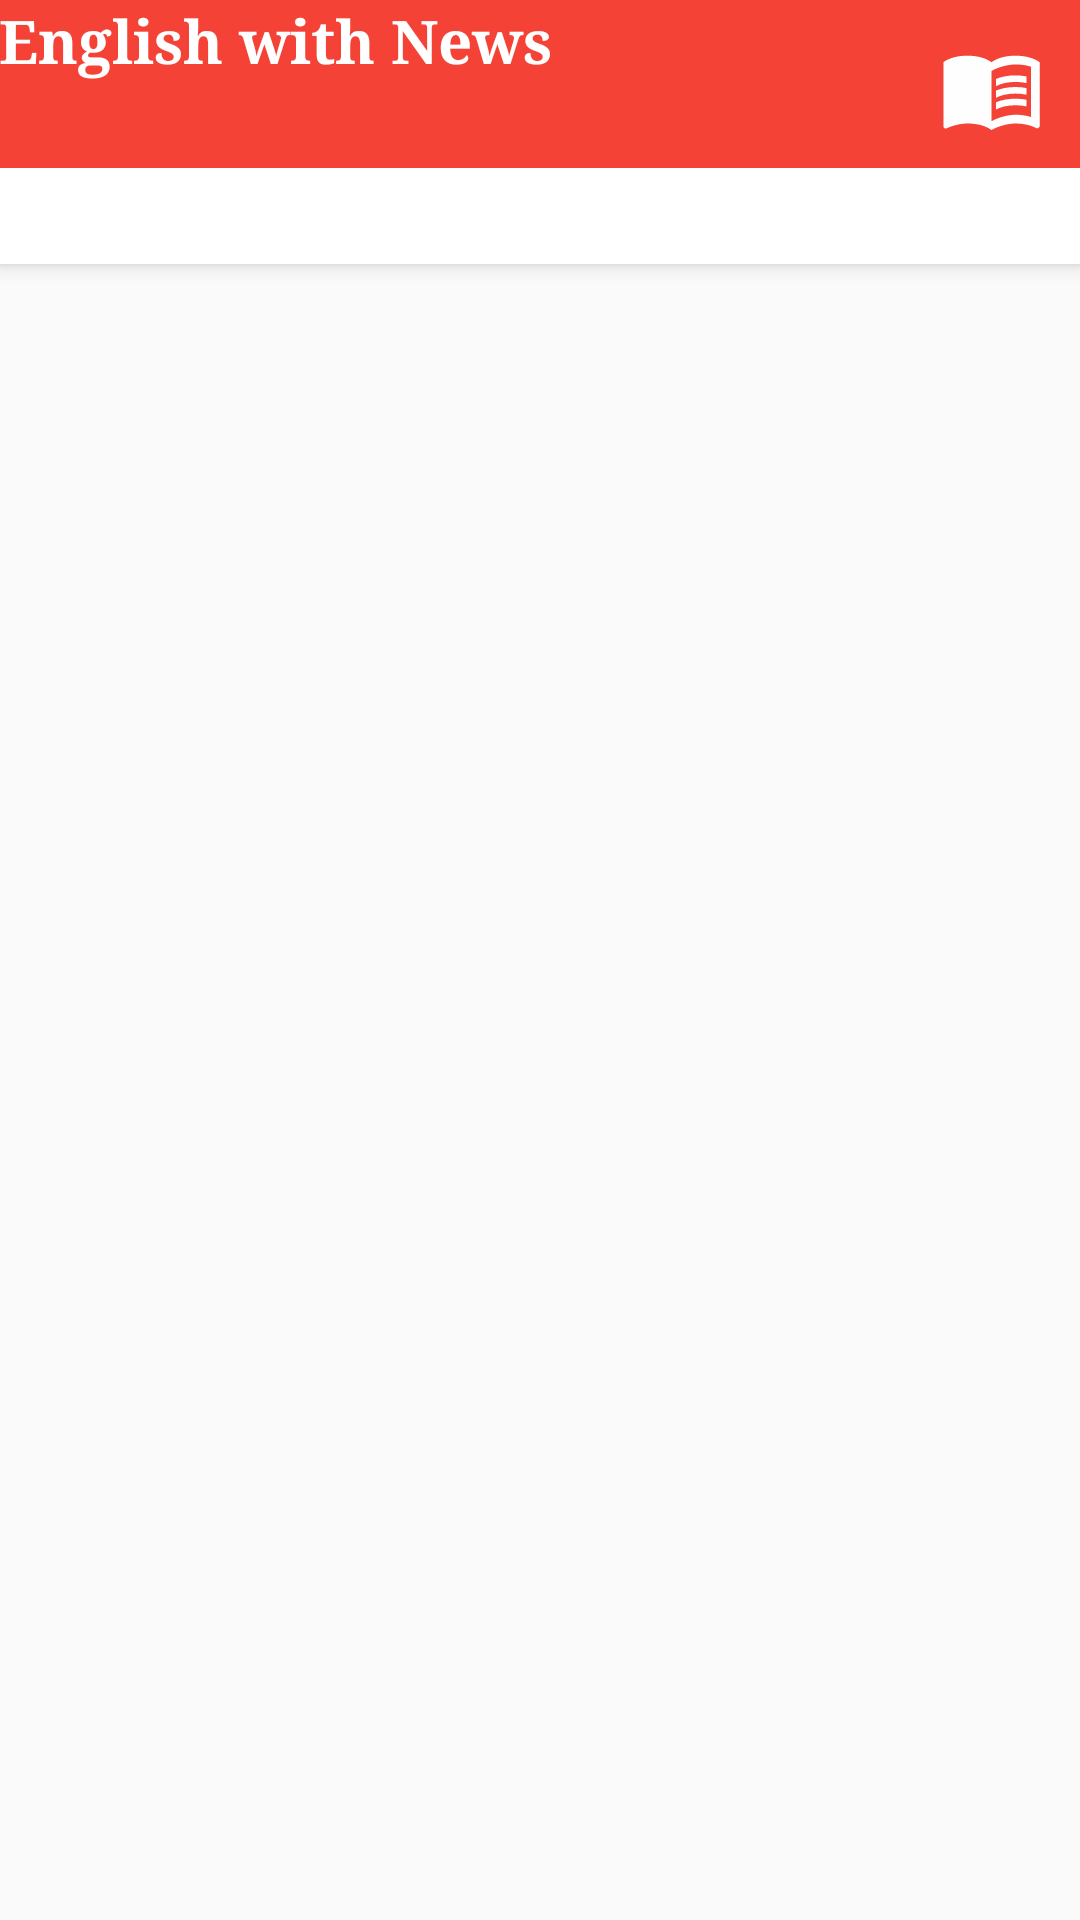

Icons on this 1080px x 1920px Android screen, each with the point to tap as point (x, y):
Vocabulary icon: point (991, 92)
